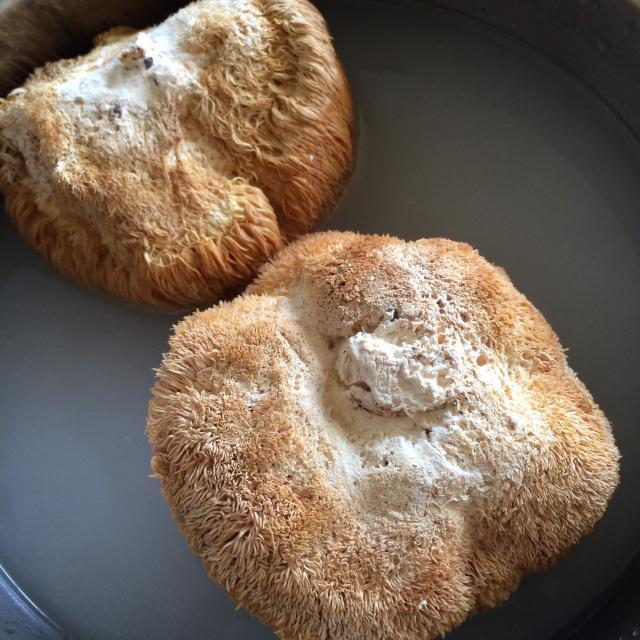Hericium erinaceus: (149, 229, 619, 640), (0, 0, 360, 305)
